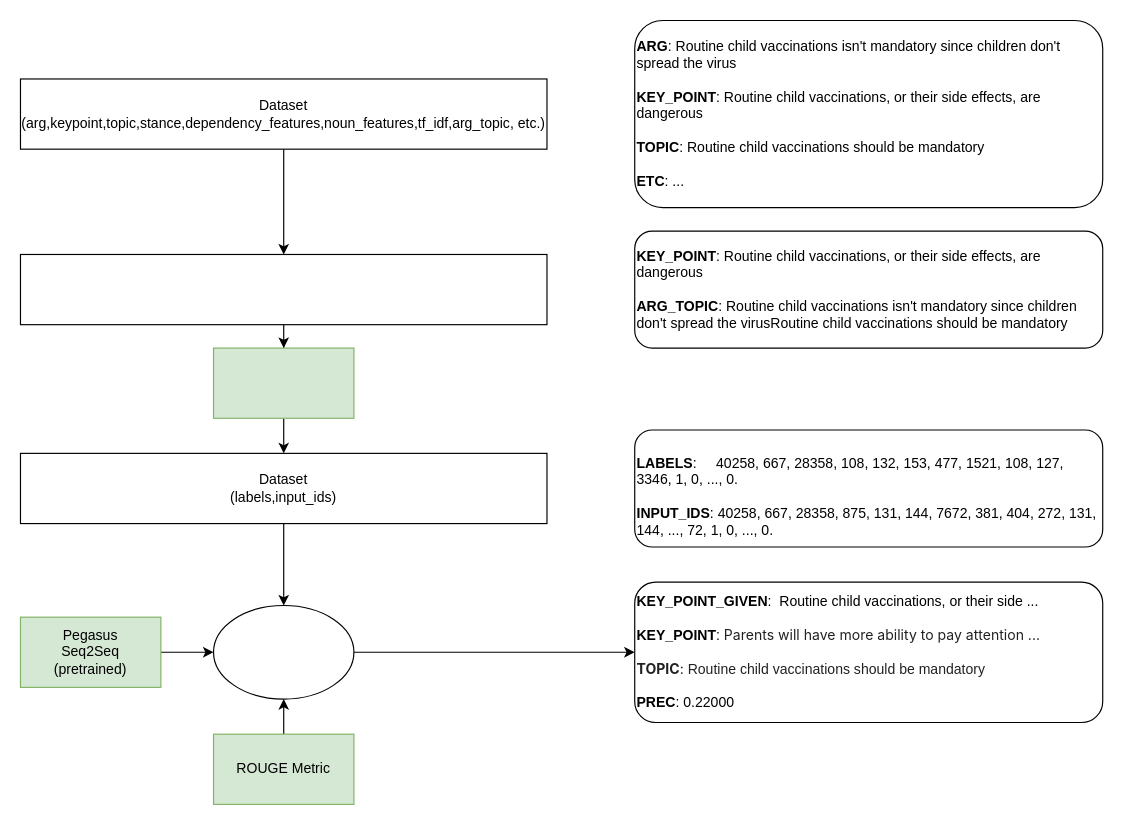
Some shapes in this 1123 by 825 pixel diagram are drawn without their labels. The box of each missing label's shape, as (x1, y1, x2, y2) in pixels:
Dataset (keypoint,arg_topic): (19, 253, 547, 325)
Fine-tuning: (212, 604, 354, 699)
Pegasus Tokenizer (pretrained): (212, 347, 354, 418)
